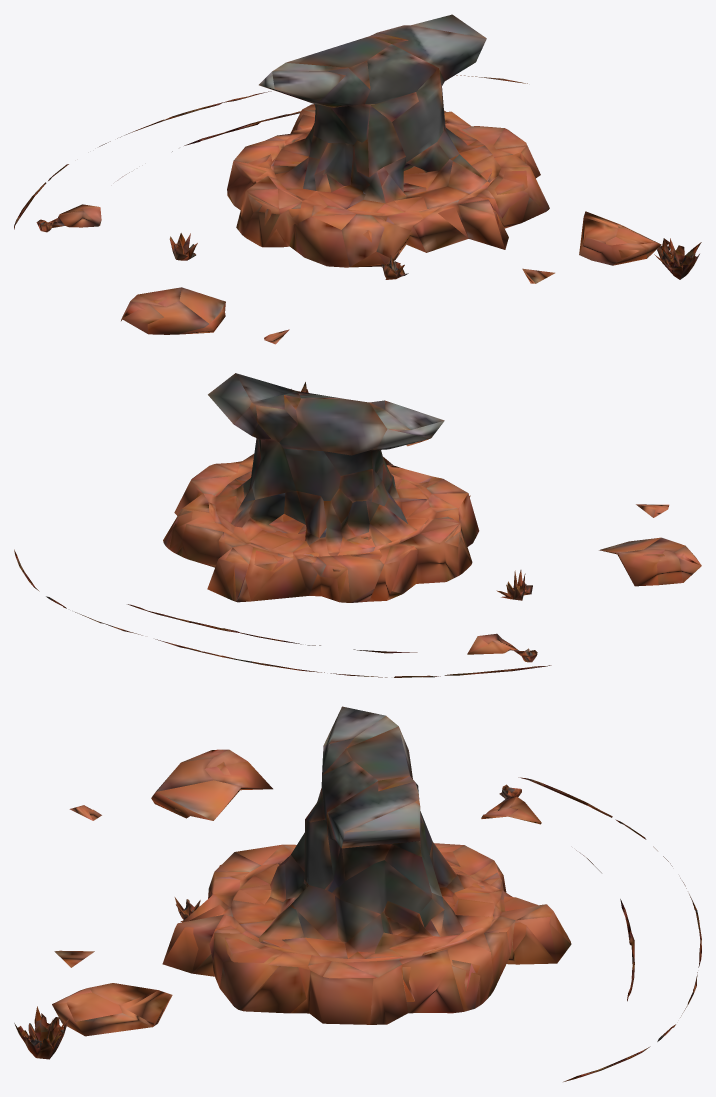
The model's file is anvil.glb.
3 renders of one model, top to bottom at view 1: azimuth 30°, elevation 25°; view 2: azimuth 150°, elevation 25°; view 3: azimuth 270°, elevation 25°, orthographic. The views are drawn at different scales.
Size of the model in its own units: 1.89 by 0.5335 by 1.71.
Materials: 1 (1 with a texture image).
